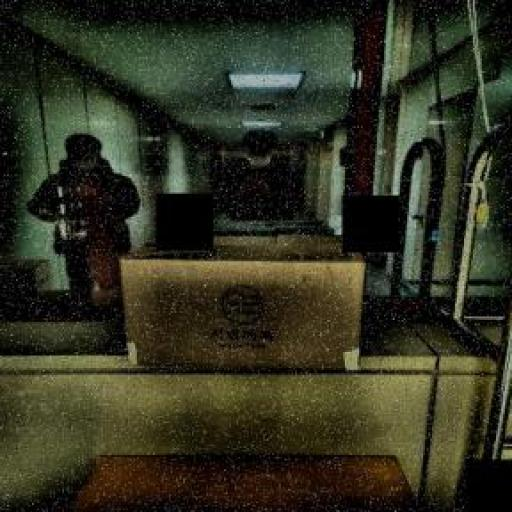box: (114, 230, 370, 382)
